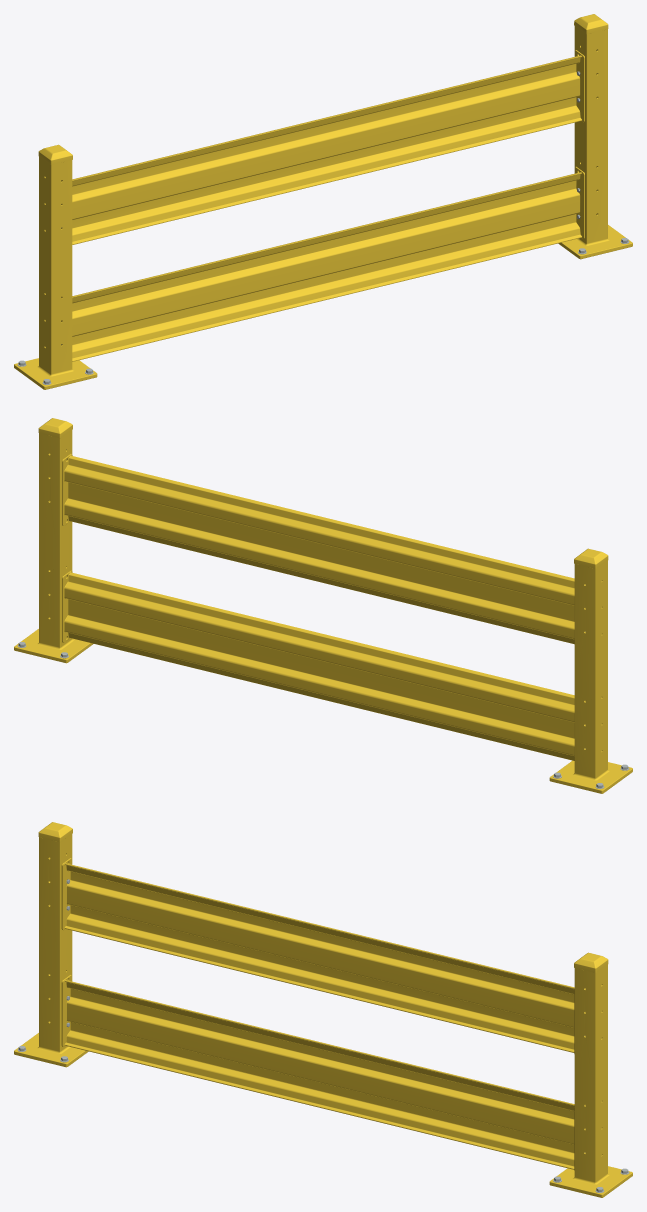
Rendered from rail_guard_a09.glb.
The picture shows the model from 3 angles, top to bottom: view 1: azimuth 30°, elevation 25°; view 2: azimuth 150°, elevation 25°; view 3: azimuth 330°, elevation 25°; orthographic projection.
Size of the model in its own units: 2.79 by 1.01 by 0.254.
